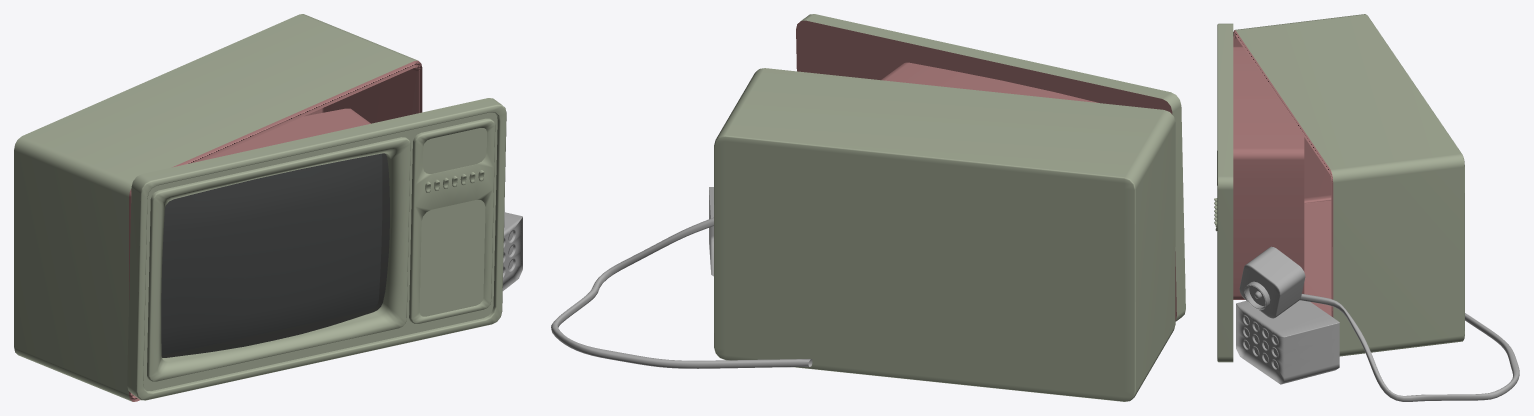
Rendered from SM_TV_80S_Broken_Large.fbx.
3 views of the same model, side by side, from view 1: azimuth 30°, elevation 25°; view 2: azimuth 150°, elevation 25°; view 3: azimuth 270°, elevation 25° (orthographic). The views are drawn at different scales.
Parts seen in each view (by area): view 1: SM_TV_80S_Broken, SM_Glass; view 2: SM_TV_80S_Broken; view 3: SM_TV_80S_Broken.
Part boxes in pixels (x1,y1,x2,y2): SM_TV_80S_Broken: [14, 14, 522, 401]; SM_Glass: [161, 153, 389, 357]; SM_TV_80S_Broken: [551, 14, 1185, 401]; SM_TV_80S_Broken: [1214, 14, 1519, 401].
Size of the model in its own units: 4173 by 1801 by 2563.
